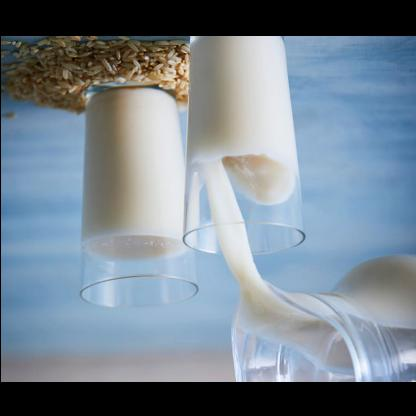milk: (208, 216, 414, 374), (186, 36, 298, 212), (78, 89, 188, 261)
